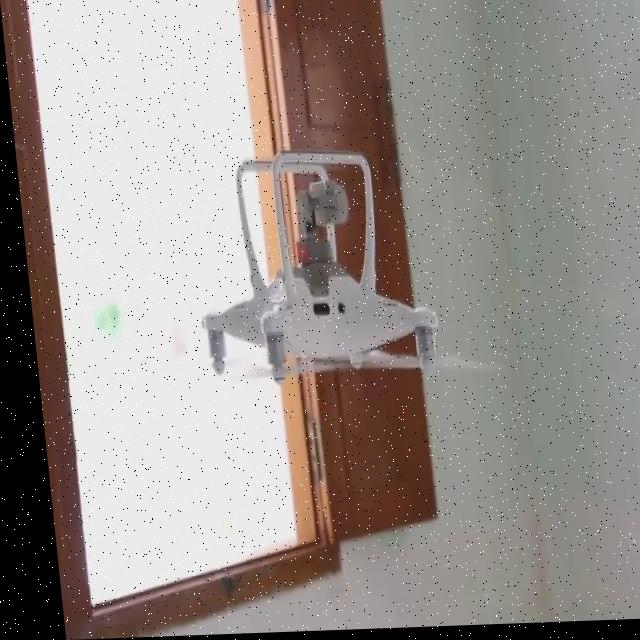drones: (150, 107, 502, 409)
